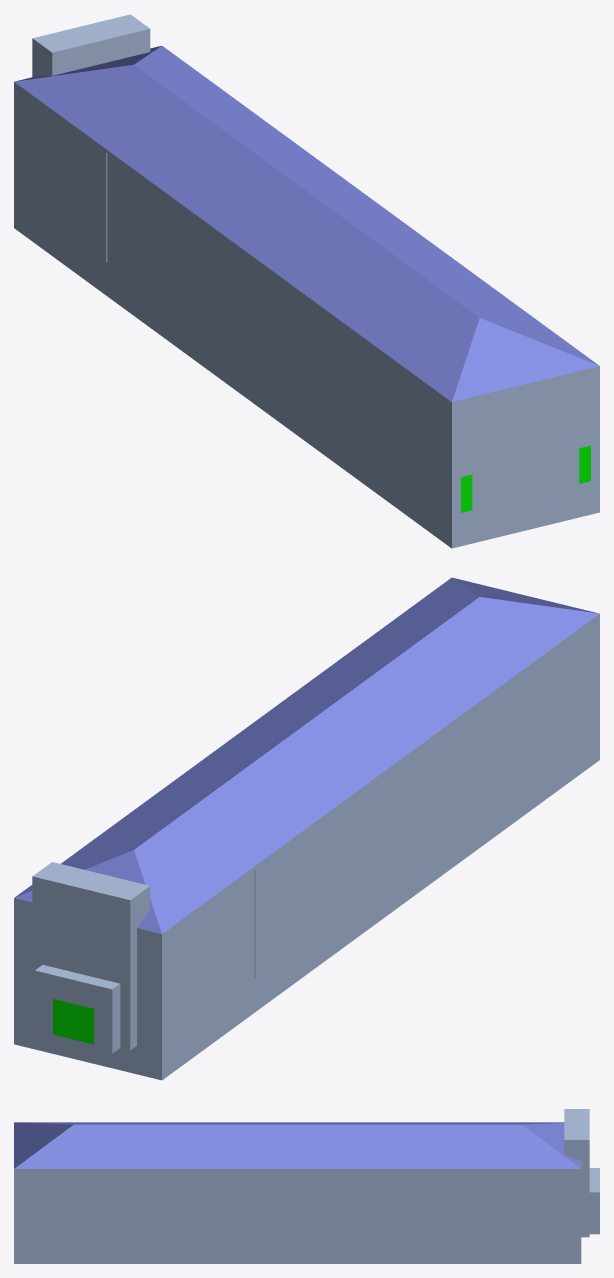
The model's file is Pump_Station_2.glb.
3 renders of one model, top to bottom at view 1: azimuth 30°, elevation 25°; view 2: azimuth 150°, elevation 25°; view 3: azimuth 270°, elevation 25°, orthographic. The views are drawn at different scales.
Parts seen in each view (by area): view 1: Roof, Floor1, Basement1; view 2: Floor1, Roof, Basement1; view 3: Floor1, Roof, Basement1.
Part boxes in pixels (x1=…): Roof: x1=14, y1=14, x2=599, y2=405; Floor1: x1=14, y1=74, x2=599, y2=519; Basement1: x1=14, y1=200, x2=599, y2=548; Floor1: x1=14, y1=617, x2=599, y2=1053; Roof: x1=14, y1=577, x2=599, y2=937; Basement1: x1=14, y1=731, x2=599, y2=1080; Floor1: x1=14, y1=1163, x2=599, y2=1245; Roof: x1=14, y1=1109, x2=589, y2=1171; Basement1: x1=14, y1=1245, x2=581, y2=1263.
Size of the model in its own units: 13 by 15 by 68.75.
